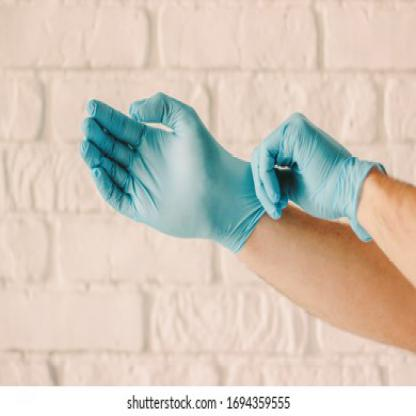with_gloves: (79, 89, 268, 256), (250, 112, 388, 244)
